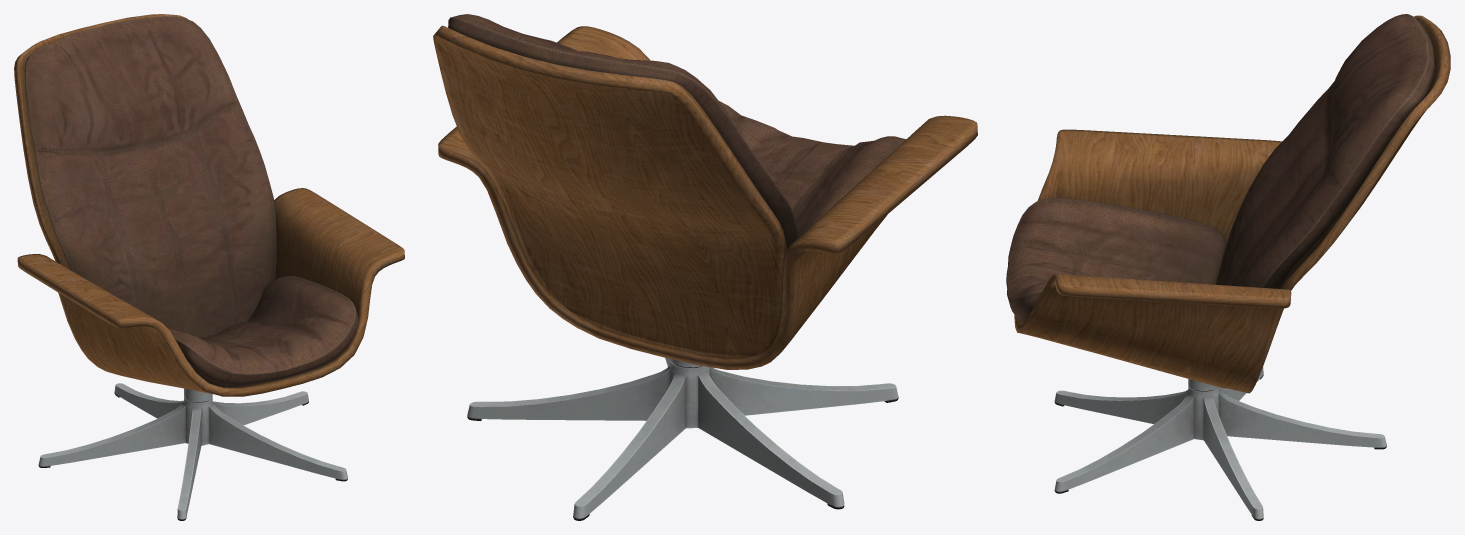
The picture shows the model from 3 angles, left to right: view 1: azimuth 30°, elevation 25°; view 2: azimuth 150°, elevation 25°; view 3: azimuth 270°, elevation 25°; orthographic projection. The views are drawn at different scales.
Parts seen in each view (by area): view 1: mid_century_lounge_chair; view 2: mid_century_lounge_chair; view 3: mid_century_lounge_chair.
Part boxes in pixels (x1,y1,x2,y2): mid_century_lounge_chair: (14, 14, 404, 520); mid_century_lounge_chair: (433, 14, 977, 520); mid_century_lounge_chair: (1006, 14, 1450, 520).
Bounding box in the file's own units: 1.01 × 1.17 × 1.19.
Materials: 1 (1 with a texture image).
